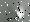person: (17, 6, 26, 21)
